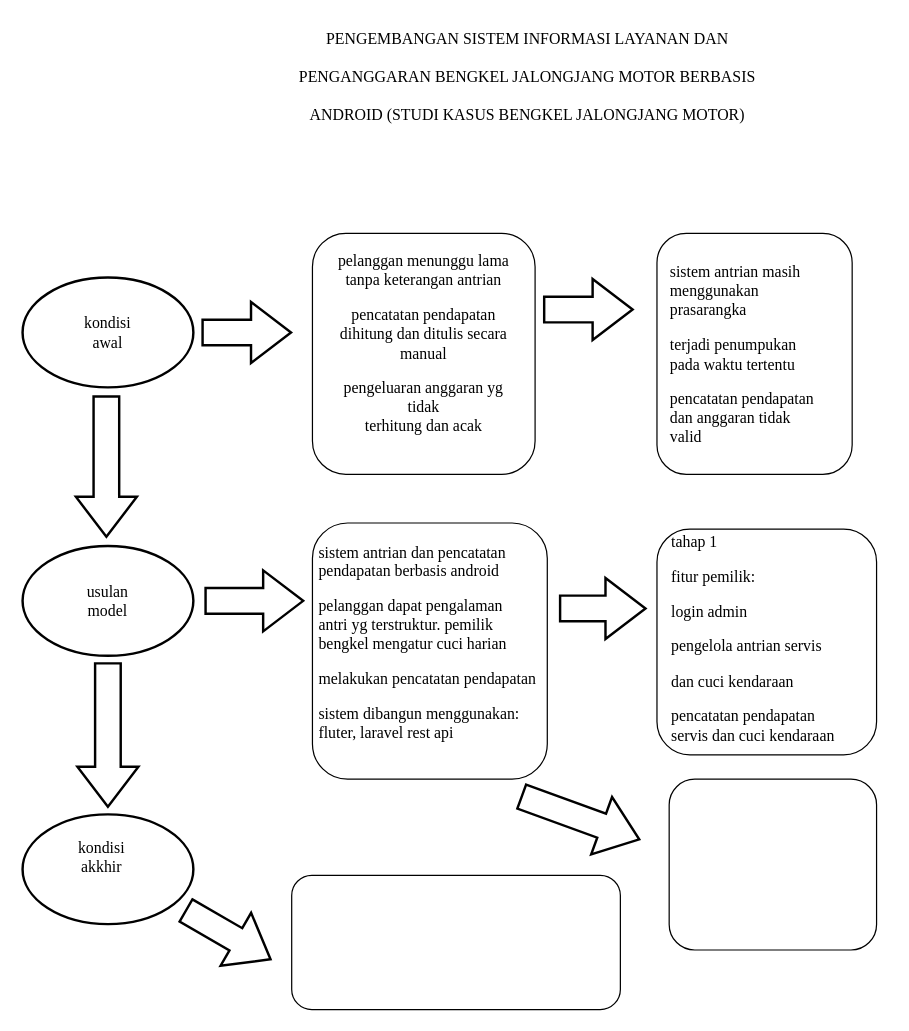
The diagram is 909 pixels wide and 1031 high, and some of its shapes have lost their labels. The centre of each missing label's shape, as x and y in pixels:
antrian terstruktur, pencatatan pendapatan valid serta tersusun rapih: [455,942]
tahap 2 laporan pendapatan cucian kendaraan: [772,864]
